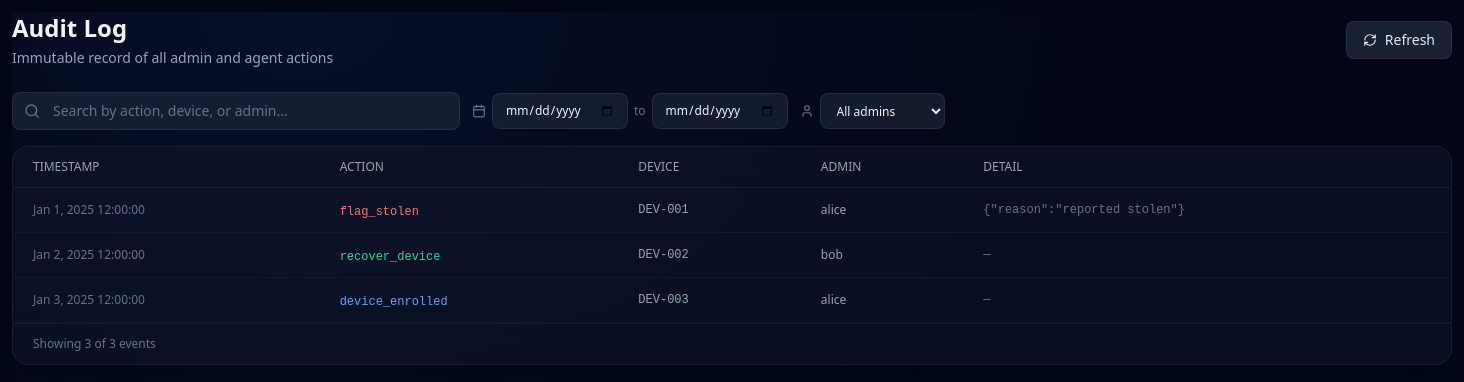
AuditPage › shows Clear filters button when filters are active
The width and height of the screenshot is (1464, 382).
Expected: the text "flag_stolen" is shown, [340,205,419,219]
Activate a filter by selecting an admin
Select "alice" in the dropdown showing "All admins" at point(882, 111), box [820,93,945,129]
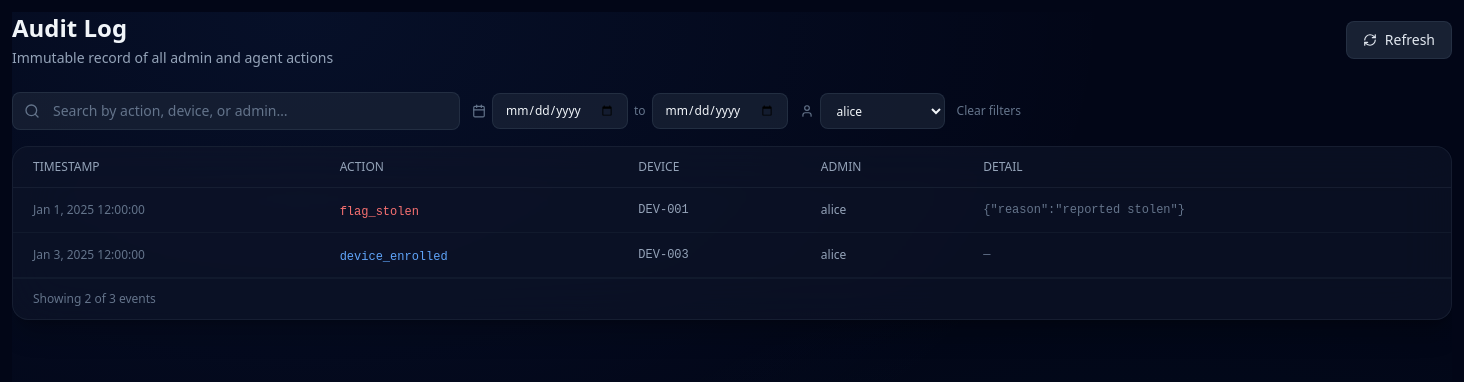
Expected: the button "Clear filters" is shown, [957,103,1021,119]
